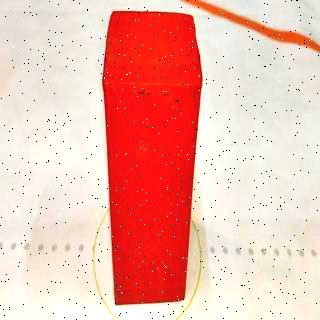redbox: (104, 12, 196, 302)
